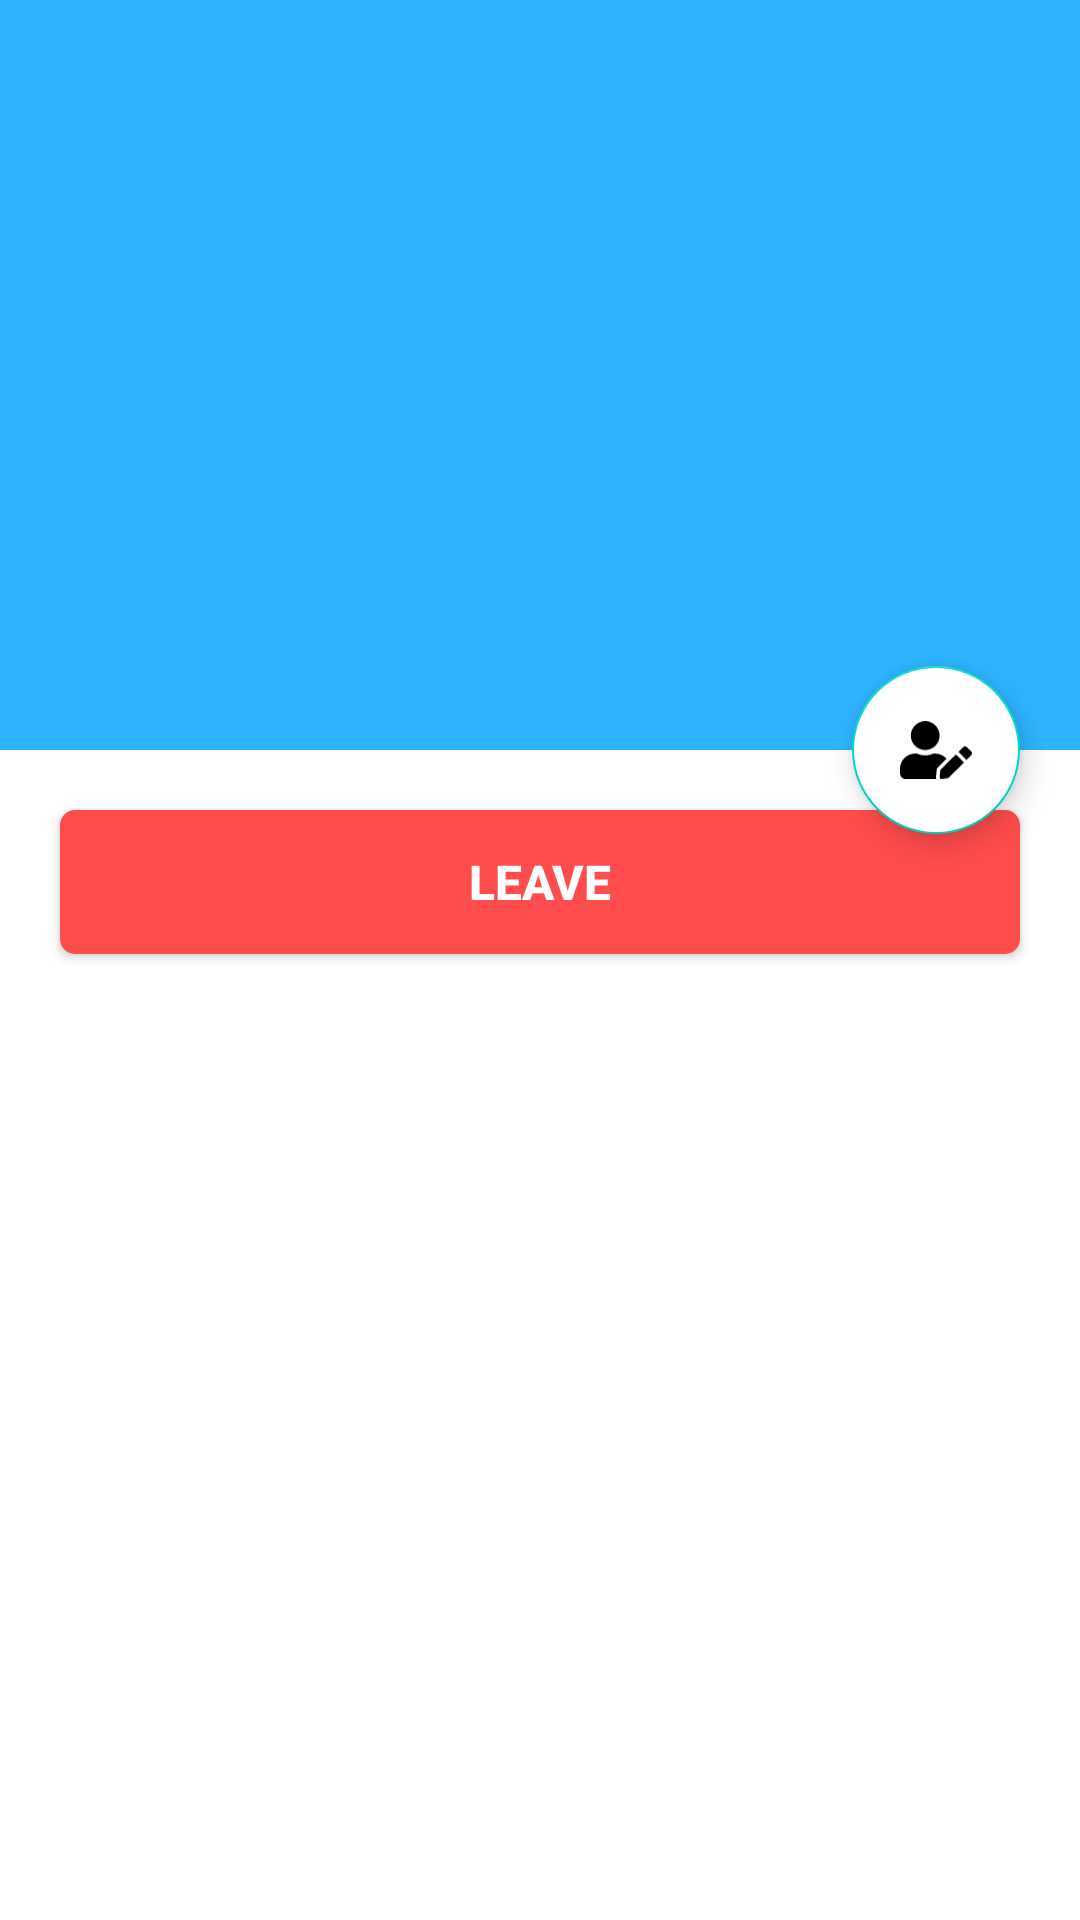

Where to tap for icons on this 1080px x 1920px app screen, as (x=x, y=y):
edit: (x=936, y=750)
